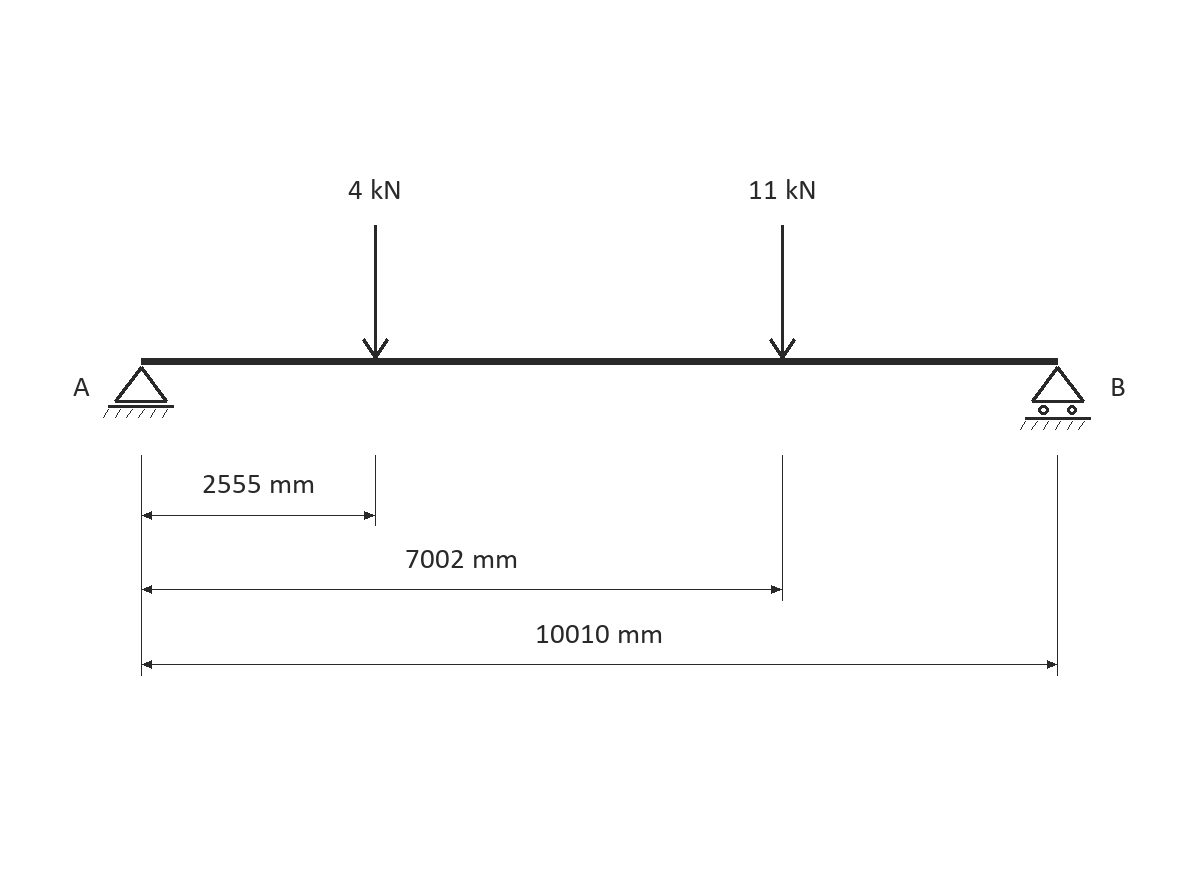pin_support: (103, 366, 174, 418)
point_load: (362, 225, 389, 359), (769, 225, 796, 359)
roller_support: (1020, 366, 1091, 430)
